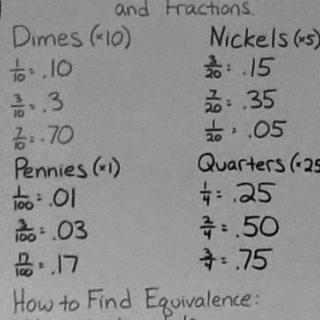.: (47, 199, 55, 209), (39, 135, 45, 144), (49, 269, 56, 276), (40, 72, 48, 78), (41, 106, 47, 113), (50, 234, 56, 240)
0: (259, 214, 279, 238), (56, 124, 76, 147), (252, 118, 270, 140), (52, 187, 69, 209), (56, 220, 73, 241), (56, 58, 73, 78)
1: (248, 53, 257, 79), (54, 253, 64, 274), (49, 56, 56, 78), (70, 187, 77, 208)
2: (236, 179, 257, 204)
3: (246, 86, 263, 111), (72, 217, 89, 242), (47, 89, 65, 112)
5: (251, 246, 273, 272), (241, 212, 260, 239), (256, 178, 275, 204), (258, 54, 275, 77), (262, 85, 278, 109), (270, 118, 287, 140)
7: (62, 251, 83, 275), (237, 245, 252, 272), (45, 122, 59, 146)
